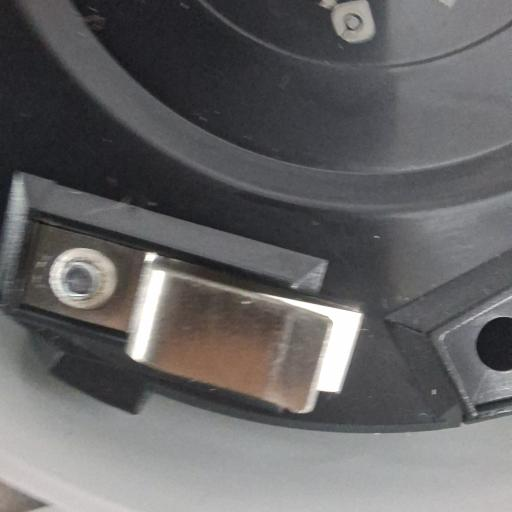yayli: (14, 212, 366, 422)
